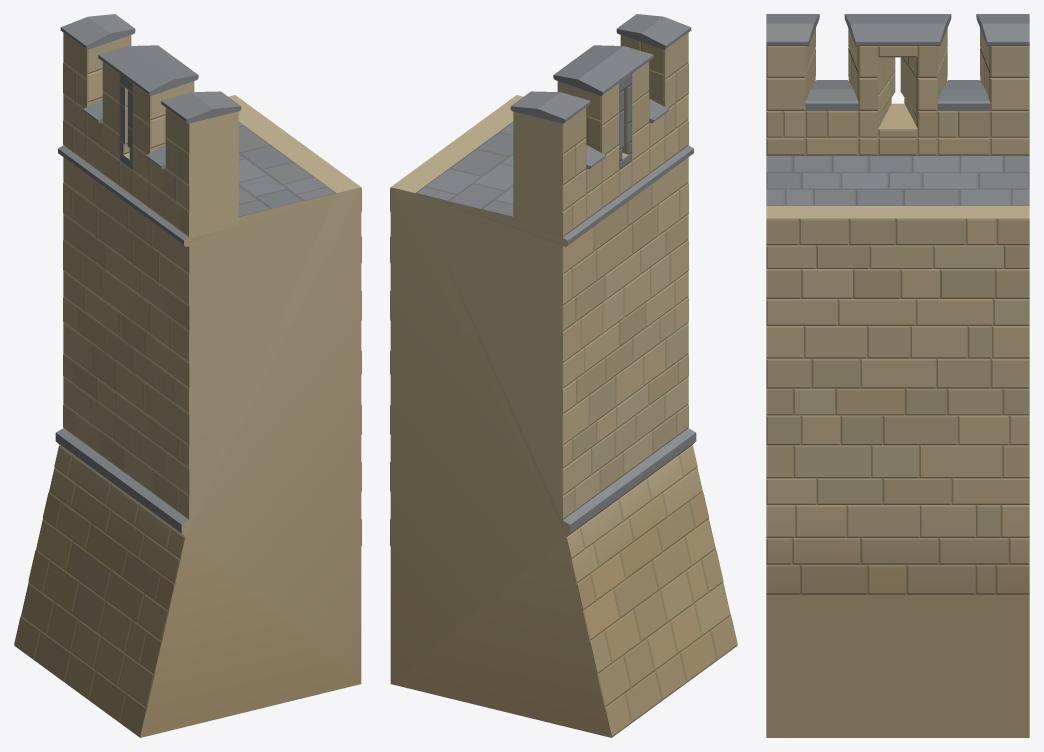
Rendered from c6-curtain-bay-4000-a.glb.
3 renders of one model, left to right at view 1: azimuth 30°, elevation 25°; view 2: azimuth 150°, elevation 25°; view 3: azimuth 270°, elevation 25°, orthographic. The views are drawn at different scales.
Visible parts, largest first — view 1: Mesh_Limestone, Mesh_Granite; view 2: Mesh_Limestone, Mesh_Granite; view 3: Mesh_Limestone, Mesh_Granite.
Boxes of the visible parts, x1,y1,x2,y2 form: Mesh_Limestone: (14,33,361,737); Mesh_Granite: (55,14,336,536); Mesh_Limestone: (390,33,737,737); Mesh_Granite: (415,14,696,536); Mesh_Limestone: (766,28,1029,737); Mesh_Granite: (766,14,1029,205).
Size of the model in its own units: 4.06 by 10.7 by 4.
